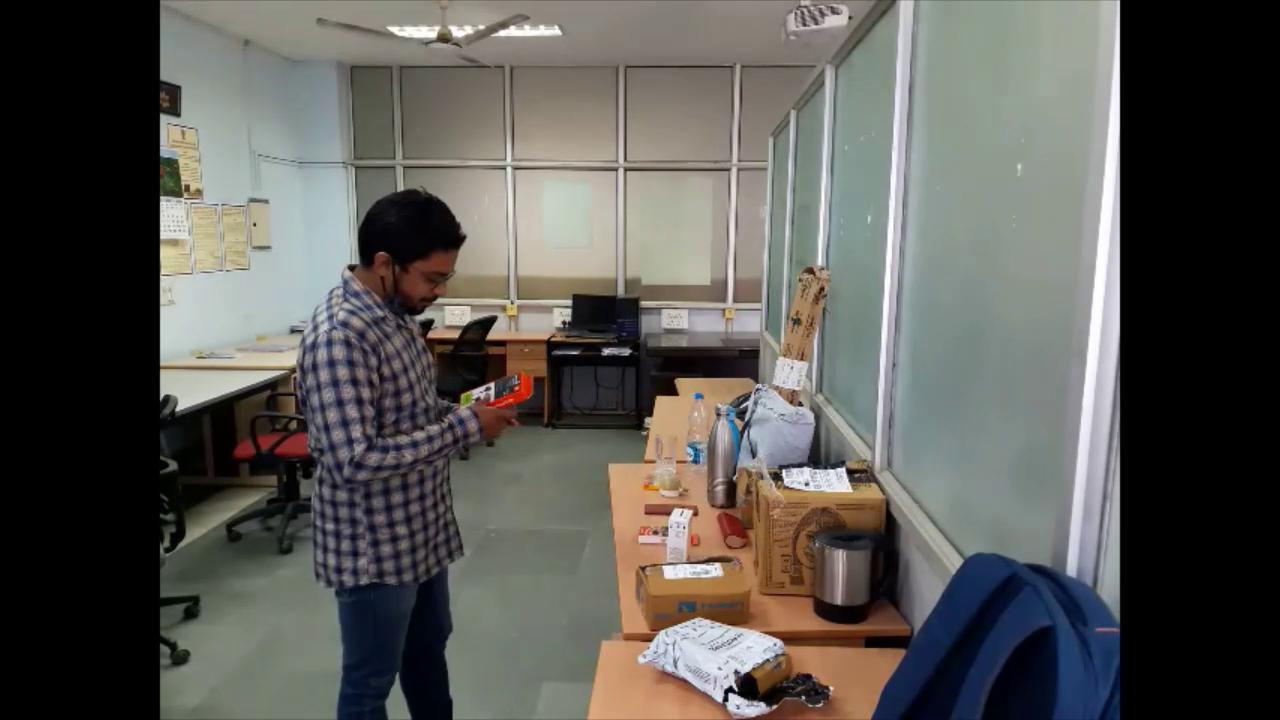Normal: (289, 185, 530, 711)
